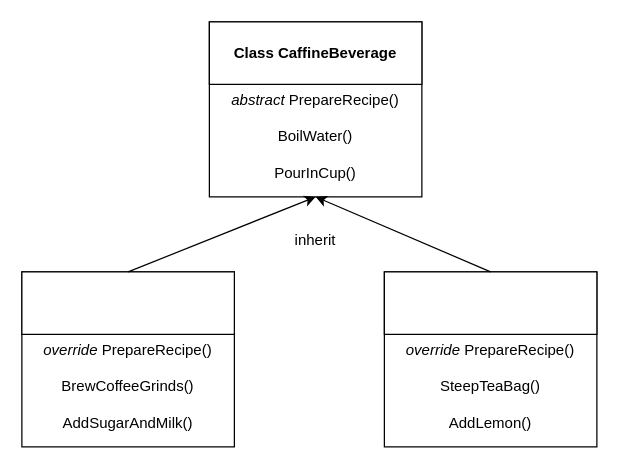
The diagram is 619 pixels wide and 469 high, and some of its shapes have lost their labels. Here are the shapes that lost their labels. From the top down, the centre of each, then its label:
(127,302): Class Coffee
(490,302): Class Tea
